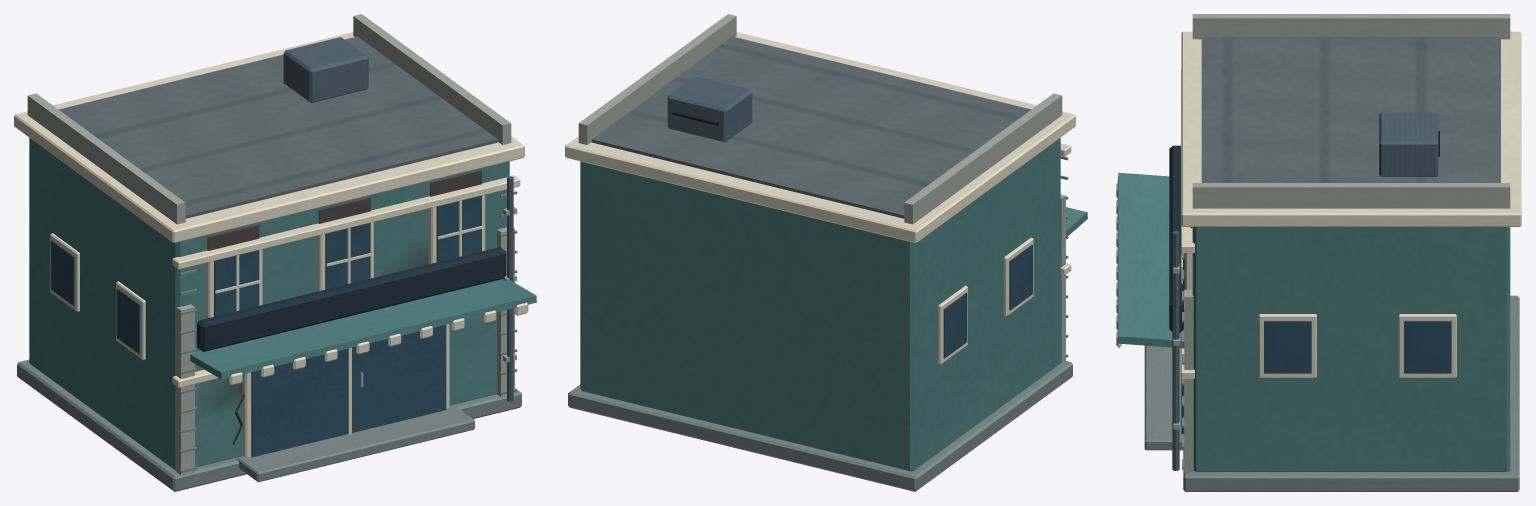
Rendered from corner-store-scorched.glb.
The picture shows the model from 3 angles, left to right: view 1: azimuth 30°, elevation 25°; view 2: azimuth 150°, elevation 25°; view 3: azimuth 270°, elevation 25°; orthographic projection. The views are drawn at different scales.
Parts seen in each view (by area): view 1: corner-store-scorched; view 2: corner-store-scorched; view 3: corner-store-scorched.
Part boxes in pixels (left/top/right/bottom): corner-store-scorched: left=14, top=14, right=536, bottom=491; corner-store-scorched: left=565, top=14, right=1087, bottom=491; corner-store-scorched: left=1116, top=14, right=1521, bottom=491.
Bounding box in the file's own units: 6.54 × 5.31 × 6.12.
Materials: 4 (4 with a texture image).
